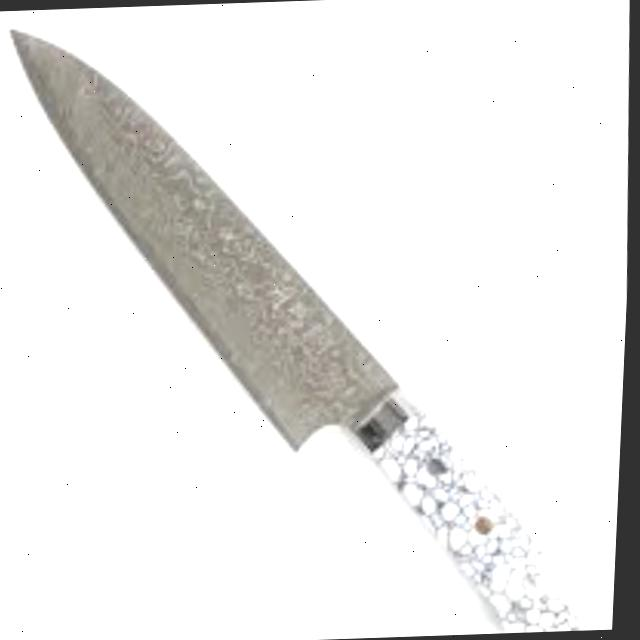knife: (0, 2, 617, 640)
